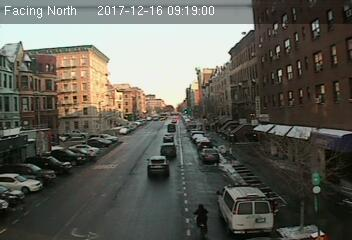bicycle: (191, 202, 213, 239)
car: (144, 155, 170, 177), (199, 147, 220, 164), (160, 142, 176, 158), (162, 132, 175, 143)
police: (215, 181, 276, 234)
